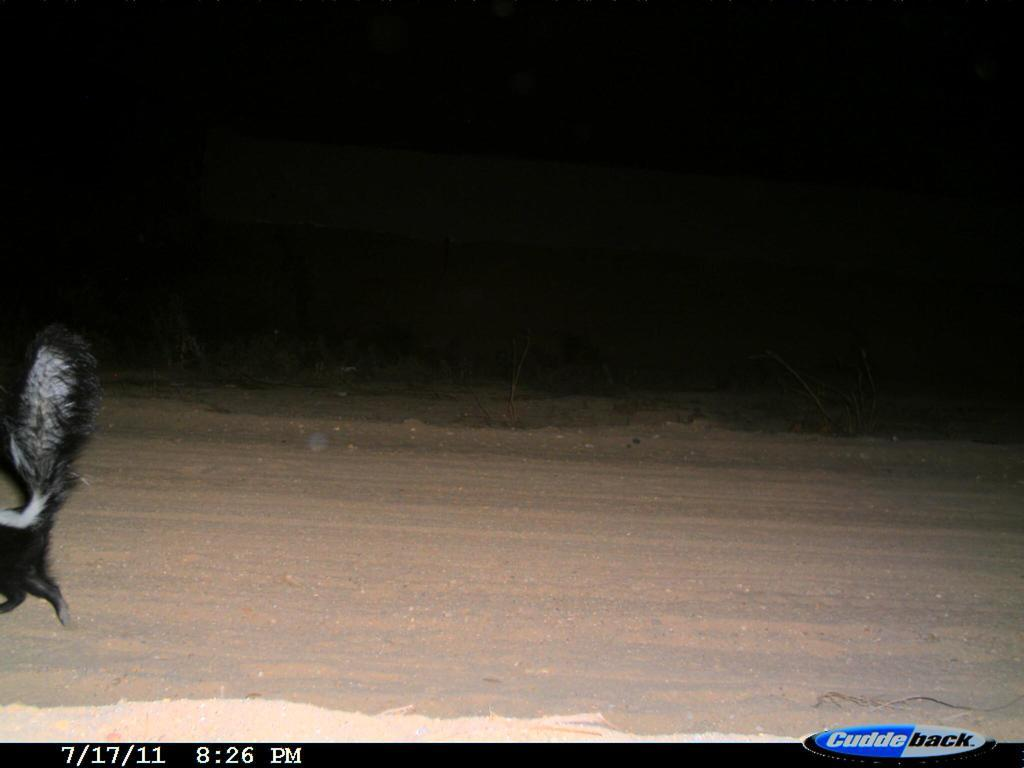skunk: (2, 313, 114, 641)
